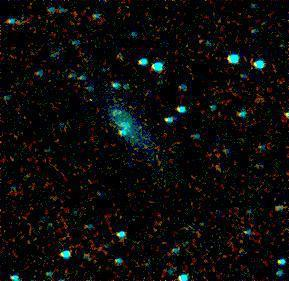star: (99, 95, 129, 125)
